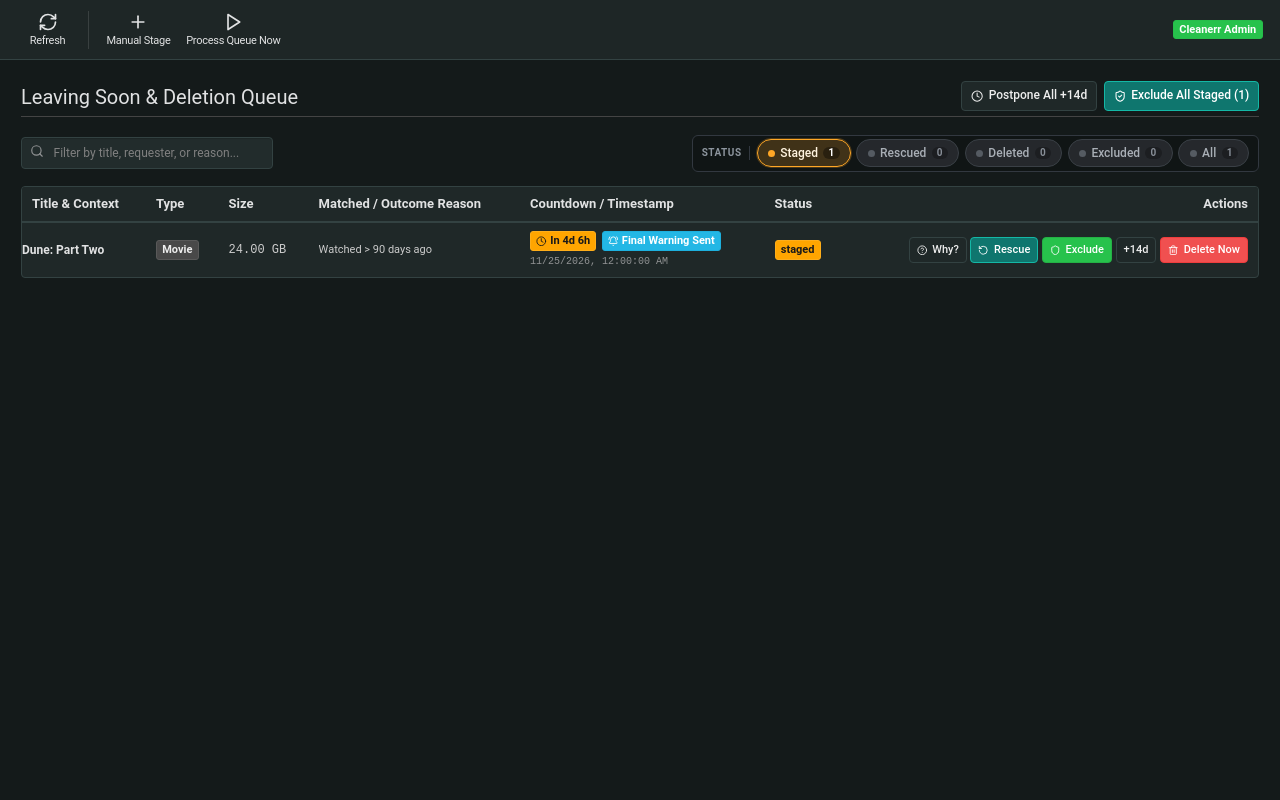
Test case: Cleanerr Frontend Components & Routing › CleanerrQueueSection › opens CleanerrTestMediaModal from "Why?" with the queued mediaItemId preselected
Click the button "Why?" at x=938, y=250, box [908,237,967,263]
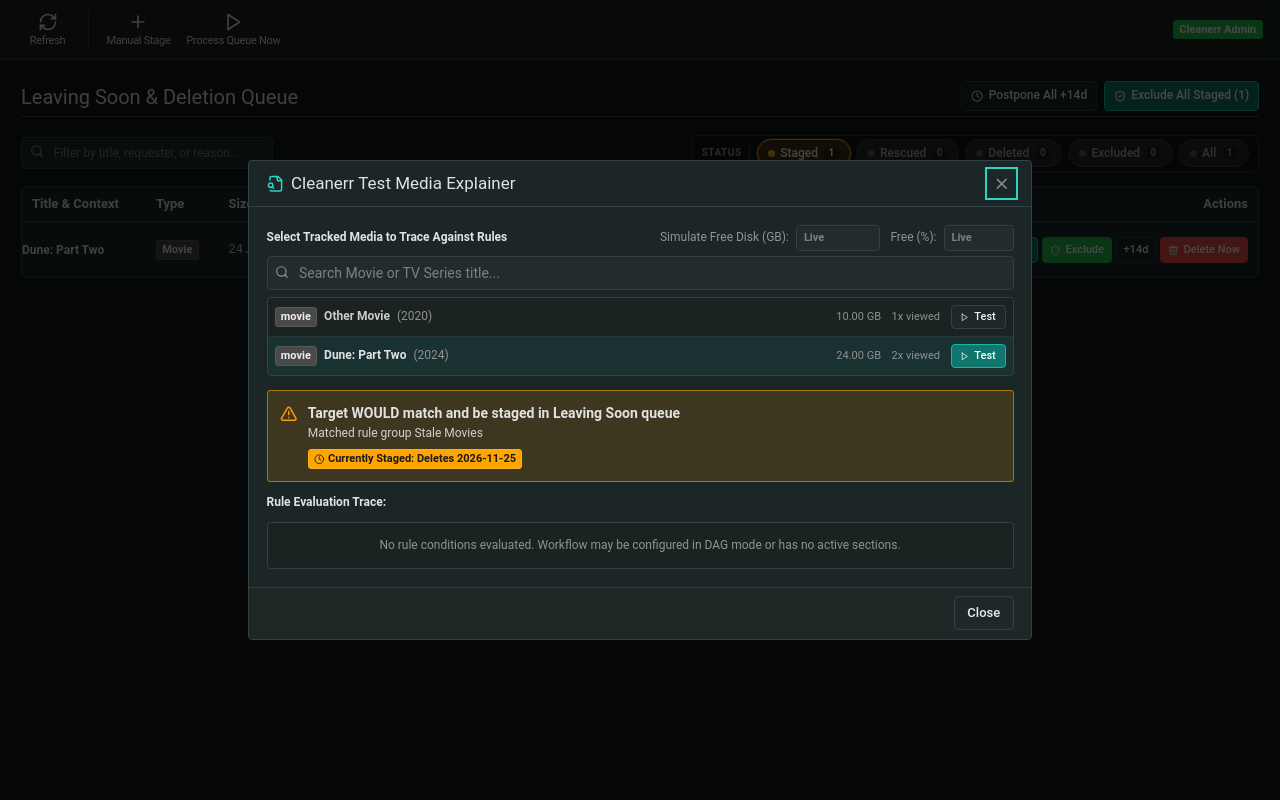
Now the text "Cleanerr Test Media Explainer" is shown, box [291,171,516,196]
Now the text "Matched rule group Stale Movies" is shown, box [308,426,483,440]
Now the dialog is shown, box [248,160,1032,640]
